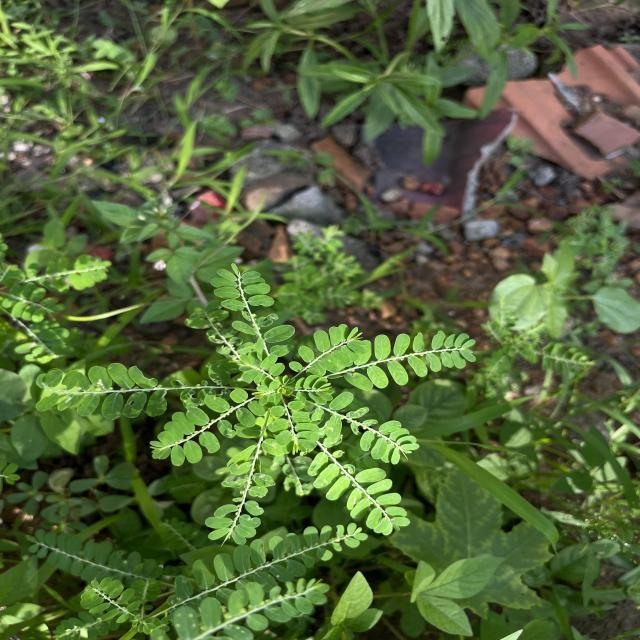Phyllanthus niruri: (163, 522, 369, 602), (299, 440, 412, 540), (146, 388, 268, 467), (332, 328, 482, 388), (212, 260, 300, 352), (30, 361, 172, 418), (315, 392, 418, 467)
